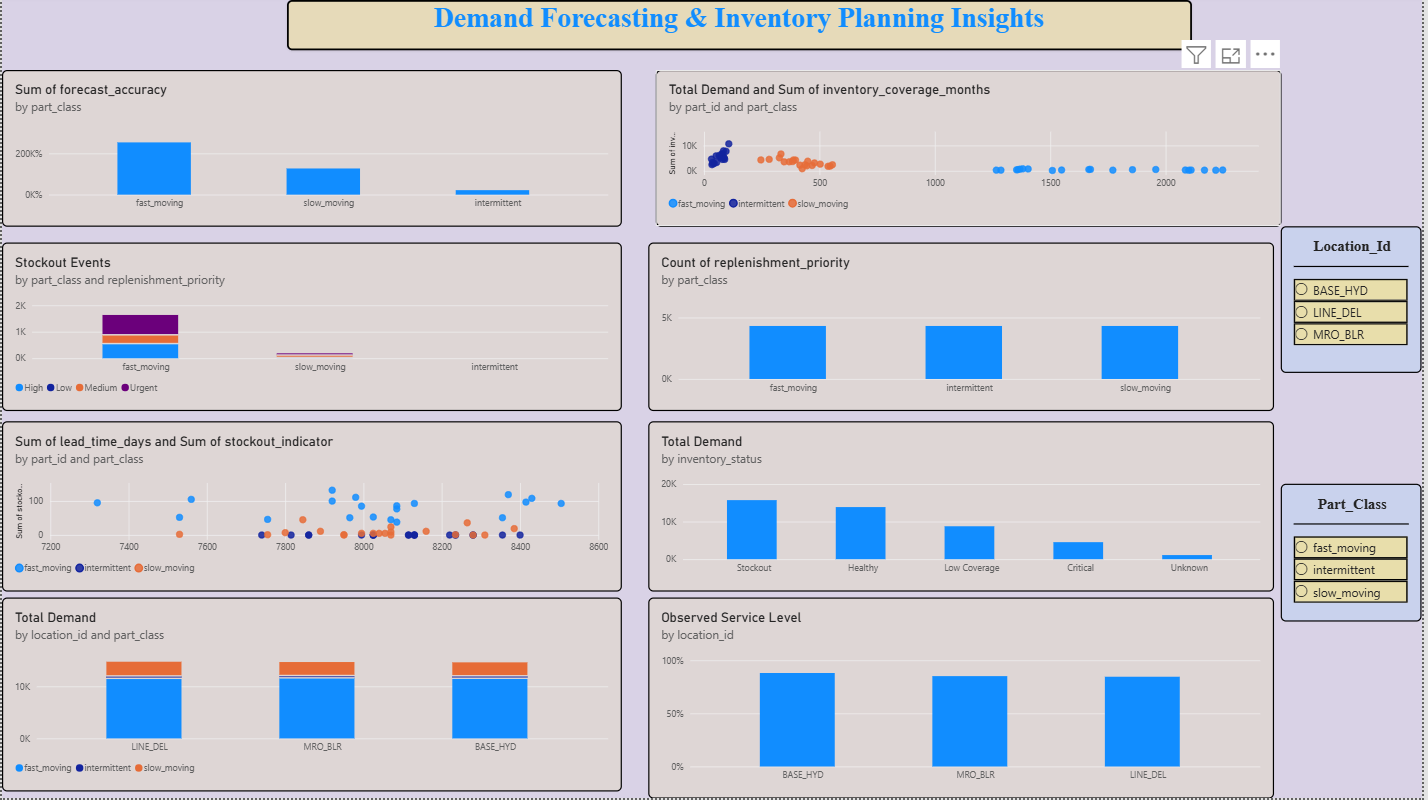

Layout of this report page (visuals, bound fields, positions):
{"tool":"powerbi","page":{"name":"Plannning Indights","canvas":[1920,1080],"ordinal":2},"visuals":[{"type":"textbox","box":[386,0,1224,68],"z":0},{"type":"columnChart","fields":{"Category":["public dim_part.part_class"],"Series":["public fact_inventory_demand.replenishment_priority"],"Y":["public dim_date.Stockout Events"]},"box":[0,328,838,228],"z":1000},{"type":"scatterChart","fields":{"Category":["public dim_part.part_id"],"Series":["public dim_part.part_class"],"X":["Sum(public fact_inventory_demand.lead_time_days)"],"Y":["Sum(public fact_inventory_demand.stockout_indicator)"]},"box":[0,570,838,230],"z":2000},{"type":"columnChart","fields":{"Category":["public fact_inventory_demand.inventory_status"],"Y":["public dim_date.Total Demand"]},"box":[874,570,846,230],"z":3000},{"type":"columnChart","fields":{"Category":["public dim_location.location_id"],"Series":["public dim_part.part_class"],"Y":["public dim_date.Total Demand"]},"box":[0,808,838,262],"z":4000},{"type":"columnChart","fields":{"Category":["public dim_location.location_id"],"Y":["public dim_date.Observed Service Level"]},"box":[874,808,846,272],"z":5000},{"type":"scatterChart","fields":{"Category":["public dim_part.part_id"],"Series":["public dim_part.part_class"],"X":["public dim_date.Total Demand"],"Y":["Sum(public fact_inventory_demand.inventory_coverage_months)"]},"box":[884,94,846,212],"z":6000},{"type":"columnChart","fields":{"Category":["public dim_part.part_class"],"Y":["Sum(public fact_inventory_demand.forecast_accuracy)"]},"box":[0,94,838,212],"z":7000},{"type":"columnChart","fields":{"Category":["public dim_part.part_class"],"Y":["CountNonNull(public fact_inventory_demand.replenishment_priority)"]},"box":[874,328,846,228],"z":8000},{"type":"listSlicer","title":"Location_Id","fields":{"Values":["public dim_location.location_id"]},"box":[1730,306,190,198],"z":9000},{"type":"listSlicer","title":"Part_Class","fields":{"Values":["public dim_part.part_class"]},"box":[1730,654,190,186],"z":10000}]}

Visuals, with their boxes in screenshot pixels (x1, y1, x2, y2), scaled from the page's 1920x1080 canvas onto the 1428x800 screenshot:
textbox: bbox(287, 0, 1197, 50)
columnChart - public dim_part.part_class x public fact_inventory_demand.replenishment_priority: bbox(0, 243, 623, 412)
scatterChart - public dim_part.part_id x public dim_part.part_class: bbox(0, 422, 623, 593)
columnChart - public fact_inventory_demand.inventory_status x public dim_date.Total Demand: bbox(650, 422, 1279, 593)
columnChart - public dim_location.location_id x public dim_part.part_class: bbox(0, 599, 623, 793)
columnChart - public dim_location.location_id x public dim_date.Observed Service Level: bbox(650, 599, 1279, 799)
scatterChart - public dim_part.part_id x public dim_part.part_class: bbox(657, 70, 1287, 227)
columnChart - public dim_part.part_class x Sum(public fact_inventory_demand.forecast_accuracy): bbox(0, 70, 623, 227)
columnChart - public dim_part.part_class x CountNonNull(public fact_inventory_demand.replenishment_priority): bbox(650, 243, 1279, 412)
"Location_Id" listSlicer: bbox(1287, 227, 1427, 373)
"Part_Class" listSlicer: bbox(1287, 484, 1427, 622)
